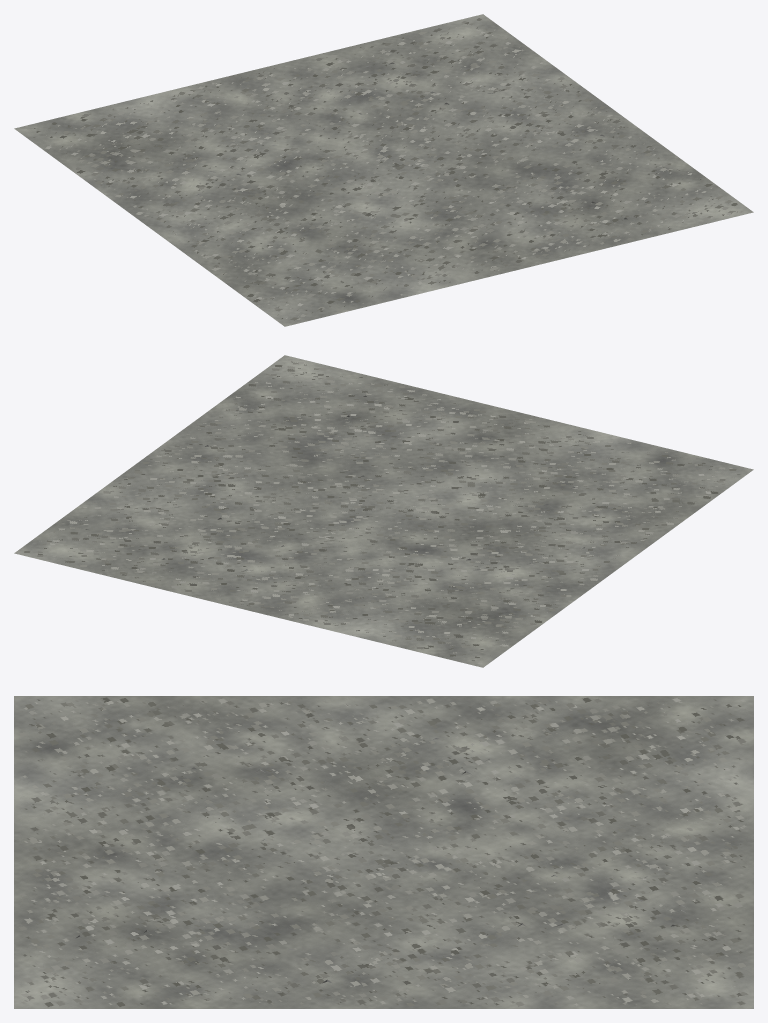
File: E07_SOLOZ2_P1_CASCALHO_CINZA_A.glb
3 views of the same model, one above another, from view 1: azimuth 30°, elevation 25°; view 2: azimuth 150°, elevation 25°; view 3: azimuth 270°, elevation 25° (orthographic). The views are drawn at different scales.
Visible parts, largest first — view 1: piso_2x2_texturizado; view 2: piso_2x2_texturizado; view 3: piso_2x2_texturizado.
Boxes of the visible parts, left/top/right/bottom form: piso_2x2_texturizado: left=14, top=14, right=753, bottom=326; piso_2x2_texturizado: left=14, top=355, right=753, bottom=667; piso_2x2_texturizado: left=14, top=696, right=753, bottom=1008.
Bounding box in the file's own units: 2 × 0.0157 × 2.
Materials: 1 (1 with a texture image).
